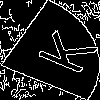K: (24, 25, 100, 76)
